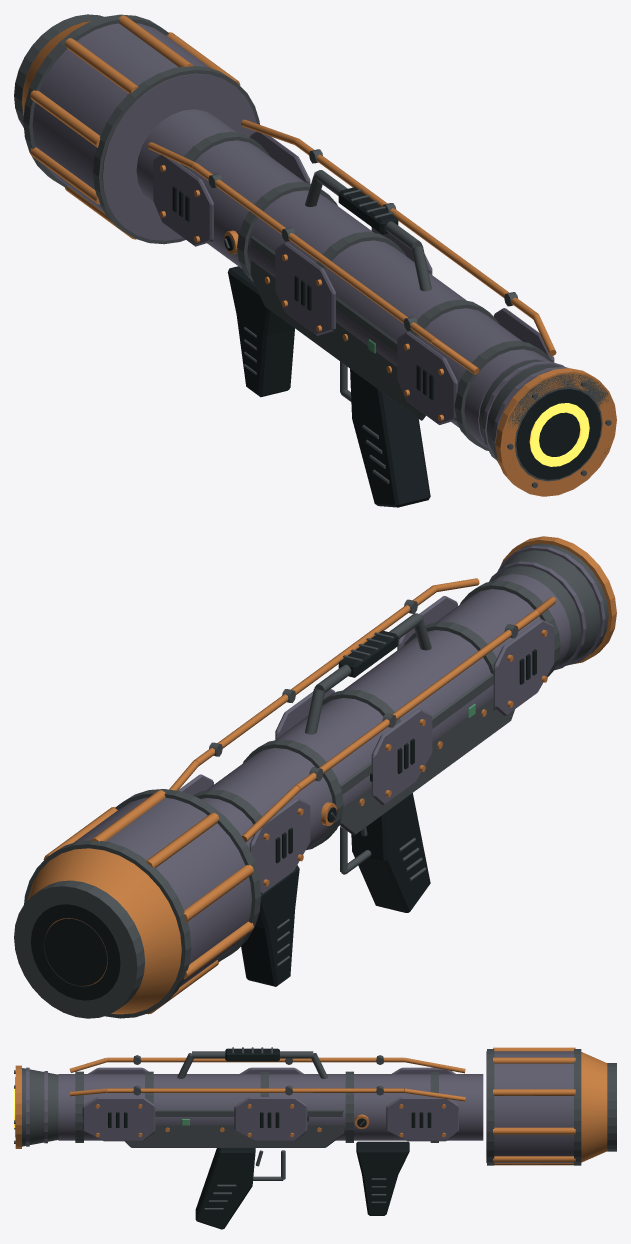
Rendered from heavy_1.glb.
3 views of the same model, one above another, from view 1: azimuth 30°, elevation 25°; view 2: azimuth 150°, elevation 25°; view 3: azimuth 270°, elevation 25° (orthographic). The views are drawn at different scales.
Visible parts, largest first — view 1: Weapon_heavy_v1; view 2: Weapon_heavy_v1; view 3: Weapon_heavy_v1.
Part boxes in pixels (<box>): Weapon_heavy_v1: <box>14,14,616,507</box>; Weapon_heavy_v1: <box>14,536,616,1018</box>; Weapon_heavy_v1: <box>14,1047,616,1229</box>.
Size of the model in its own units: 0.195 by 0.318 by 0.993.
